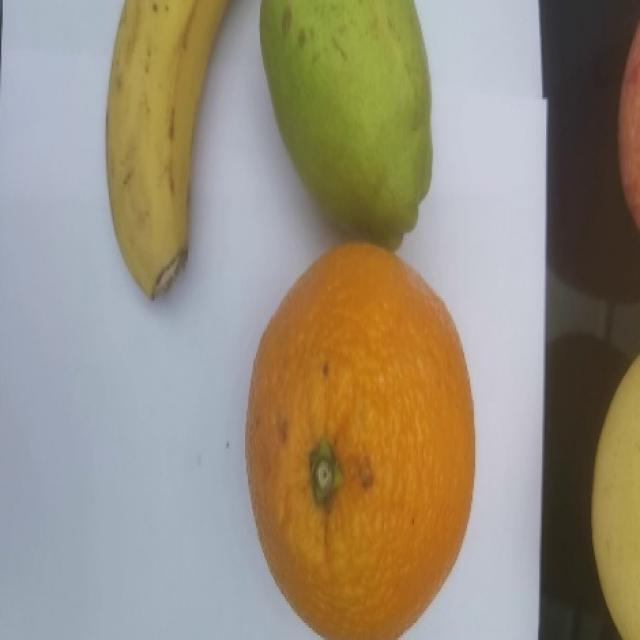Banana: (104, 0, 232, 300)
Orange: (243, 240, 476, 639)
